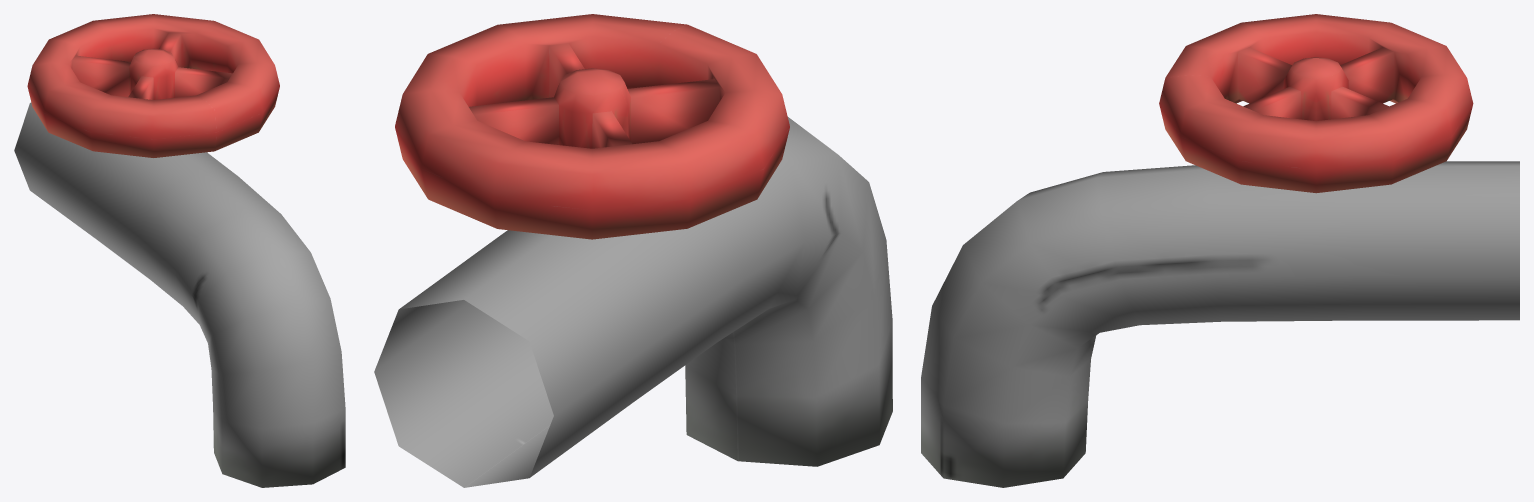
File: TankFaucet.fbx
3 views of the same model, side by side, from view 1: azimuth 30°, elevation 25°; view 2: azimuth 150°, elevation 25°; view 3: azimuth 270°, elevation 25° (orthographic). The views are drawn at different scales.
Parts seen in each view (by area): view 1: TankFaucet; view 2: TankFaucet; view 3: TankFaucet.
Boxes of the visible parts, x1,y1,x2,y2 form: TankFaucet: (14,14,345,487); TankFaucet: (374,14,892,487); TankFaucet: (921,14,1519,487).
Bounding box in the file's own units: 48.09 × 65.79 × 91.63.
